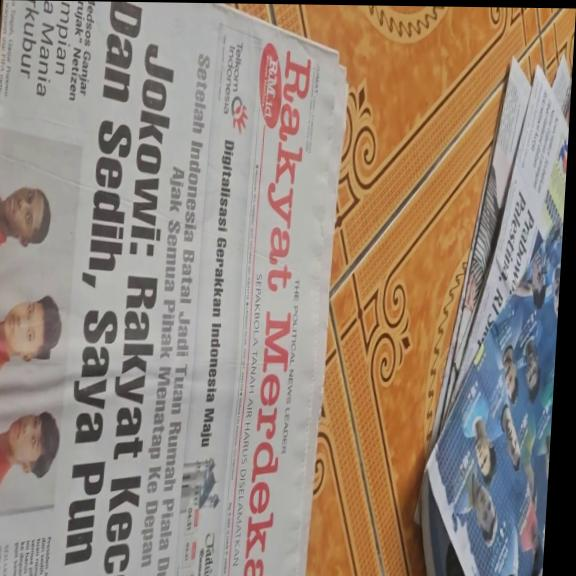Kertas: (0, 61, 340, 576)
